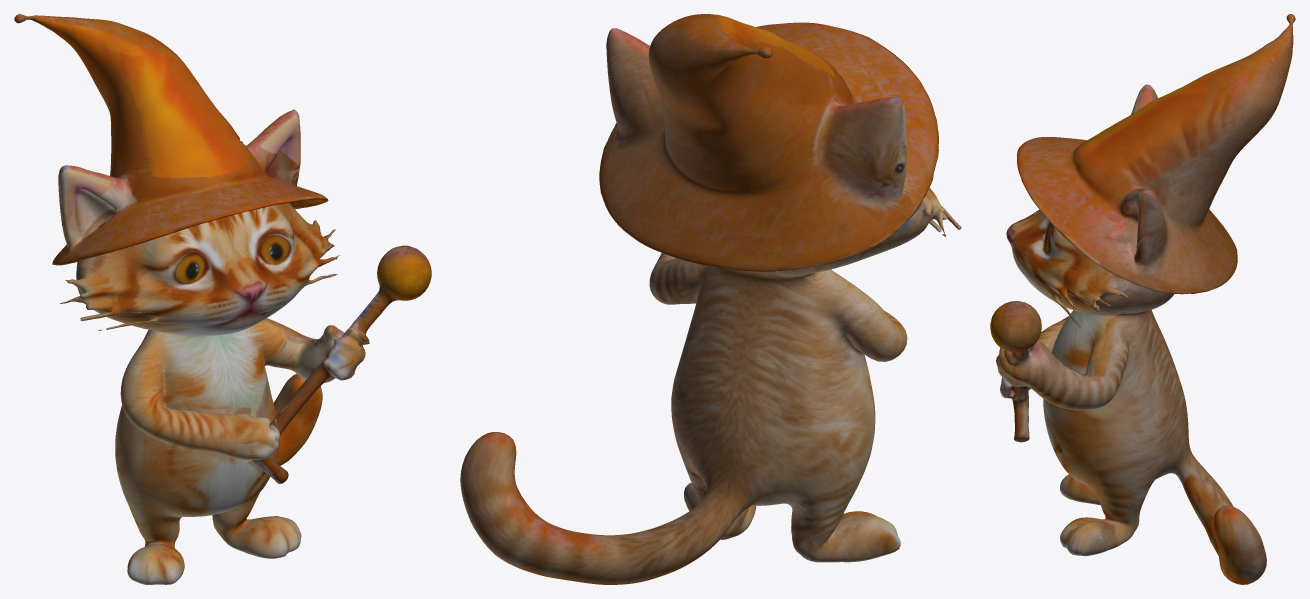
The model's file is orange_tabby_cat_in_a_1125122606_refine.fbx.
3 views of the same model, side by side, from view 1: azimuth 30°, elevation 25°; view 2: azimuth 150°, elevation 25°; view 3: azimuth 270°, elevation 25° (orthographic). The views are drawn at different scales.
Visible parts, largest first — view 1: Mesh1_Mesh1.077; view 2: Mesh1_Mesh1.077; view 3: Mesh1_Mesh1.077.
Boxes of the visible parts, x1,y1,x2,y2 form: Mesh1_Mesh1.077: (14,14,431,584); Mesh1_Mesh1.077: (460,14,961,584); Mesh1_Mesh1.077: (990,14,1295,584).
Size of the model in its own units: 137 by 199 by 118.
Materials: 1 (1 with a texture image).
